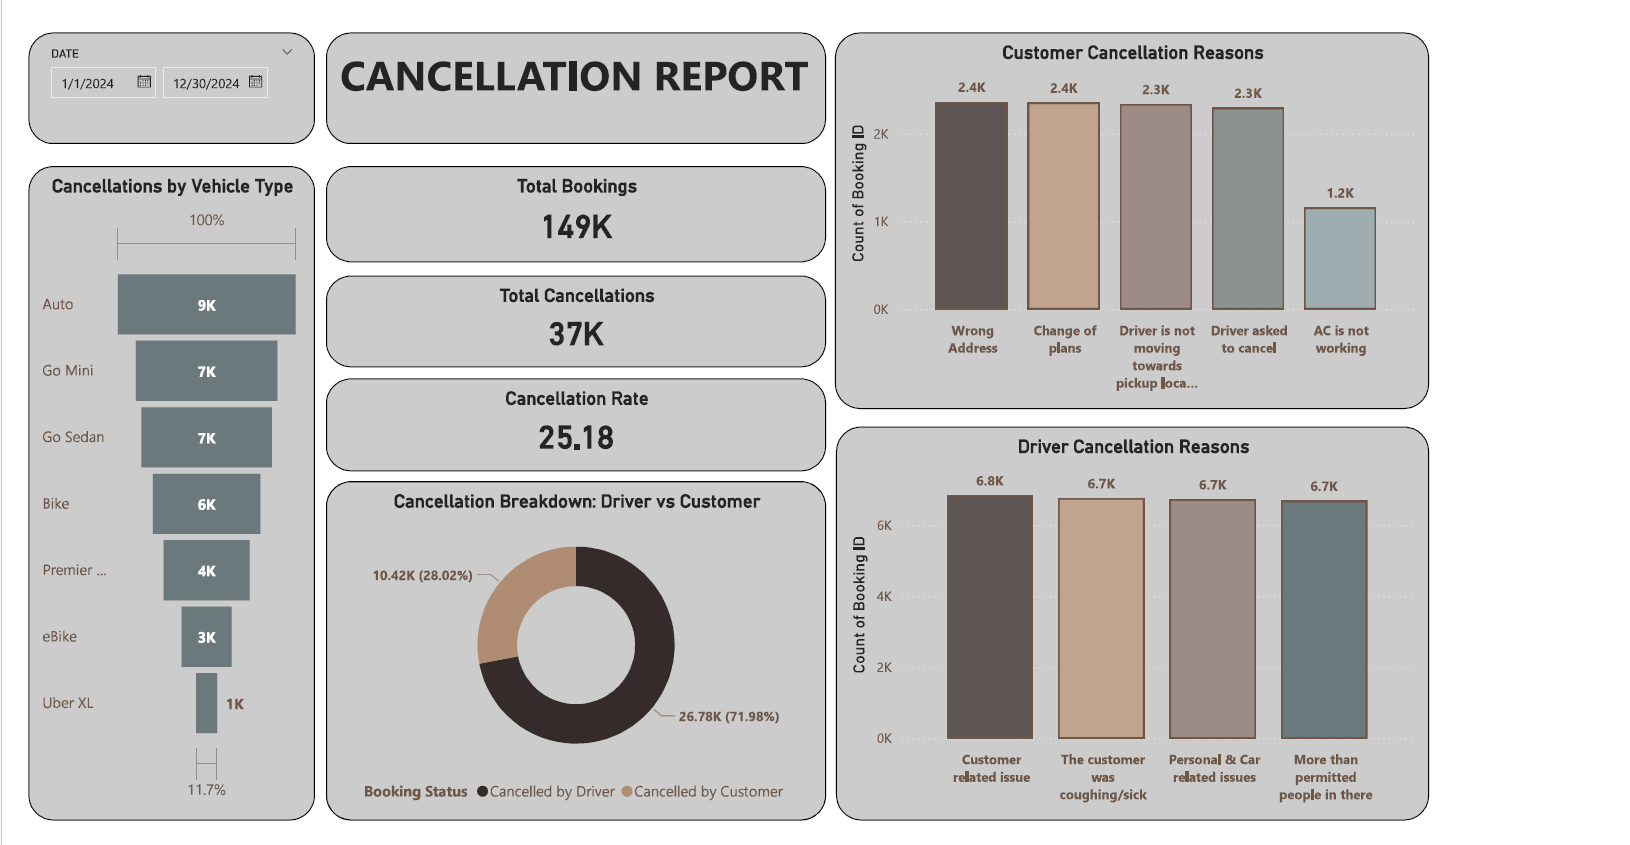

This screenshot's page, from the dashboard's own definition file:
{"tool":"powerbi","page":{"name":"Cancellation","canvas":[1280,720],"ordinal":4},"visuals":[{"type":"donutChart","title":"Cancellation Breakdown: Driver vs Customer","fields":{"Category":["Uber_Data.Booking Status"],"Y":["CountNonNull(Uber_Data.Booking ID)"]},"box":[272,409.8,457.3,309.8],"z":0},{"type":"slicer","fields":{"Values":["Uber_Data.DateTimeCombined"]},"box":[0,0,262.2,102.4],"z":1000},{"type":"columnChart","title":"Driver Cancellation Reasons","fields":{"Category":["Drivers_Cancelled Rides.Reason for Cancellation"],"Y":["CountNonNull(Drivers_Cancelled Rides.Booking ID)"]},"box":[737.8,359.8,542.7,359.8],"z":2000},{"type":"card","title":"Total Cancellations ","fields":{"Values":["Booking ID.Total_Cancelled_Rides"]},"box":[272,222,457.3,84.1],"z":3000},{"type":"card","title":"Total Bookings","fields":{"Values":["Booking ID.Total_Bookings"]},"box":[272,122,457.3,87.8],"z":4000},{"type":"card","title":"Cancellation Rate","fields":{"Values":["Booking ID.Cancellation Rate"]},"box":[272,315.9,457.3,85.4],"z":5000},{"type":"columnChart","title":"Customer Cancellation Reasons ","fields":{"Category":["Customers_Cancelled Rides.Reason for Cancellation"],"Y":["CountNonNull(Customers_Cancelled Rides.Booking ID)"]},"box":[737.3,0,542.7,343.9],"z":6000},{"type":"funnel","title":"Cancellations by Vehicle Type","fields":{"Category":["Uber_Data.Vehicle Type"],"Y":["Booking ID.Total_Cancelled_Rides"]},"box":[0,122,262.2,597.6],"z":7000},{"type":"textbox","box":[272,0,457.3,102.4],"z":8000}]}

Visuals, with their boxes on the page's 1280x720 design canvas (x1, y1, x2, y2). These are canvas units, not pixel positions in the 1630x845 screenshot, which may show the page scaled, cropped or inside an application window:
"Cancellation Breakdown: Driver vs Customer" donutChart: x1=272, y1=410, x2=729, y2=720
slicer - Uber_Data.DateTimeCombined: x1=0, y1=0, x2=262, y2=102
"Driver Cancellation Reasons" columnChart: x1=738, y1=360, x2=1280, y2=720
"Total Cancellations " card: x1=272, y1=222, x2=729, y2=306
"Total Bookings" card: x1=272, y1=122, x2=729, y2=210
"Cancellation Rate" card: x1=272, y1=316, x2=729, y2=401
"Customer Cancellation Reasons " columnChart: x1=737, y1=0, x2=1280, y2=344
"Cancellations by Vehicle Type" funnel: x1=0, y1=122, x2=262, y2=720
textbox: x1=272, y1=0, x2=729, y2=102
